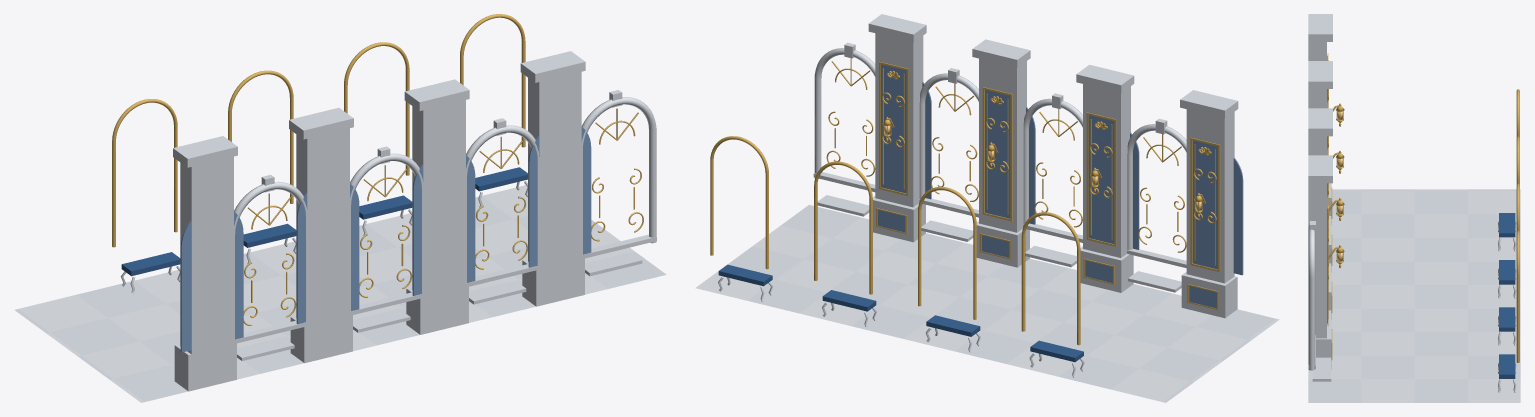
The model's file is KRM_STATIC_016.fbx.
The picture shows the model from 3 angles, left to right: view 1: azimuth 30°, elevation 25°; view 2: azimuth 150°, elevation 25°; view 3: azimuth 270°, elevation 25°; orthographic projection. The views are drawn at different scales.
Visible parts, largest first — view 1: KRM_STATIC_016; view 2: KRM_STATIC_016; view 3: KRM_STATIC_016.
Part boxes in pixels (<box>): KRM_STATIC_016: <box>15,14,666,402</box>; KRM_STATIC_016: <box>695,14,1279,402</box>; KRM_STATIC_016: <box>1308,14,1520,402</box>.
Bounding box in the file's own units: 1360 × 576 × 570.
Materials: 1 (1 with a texture image).
